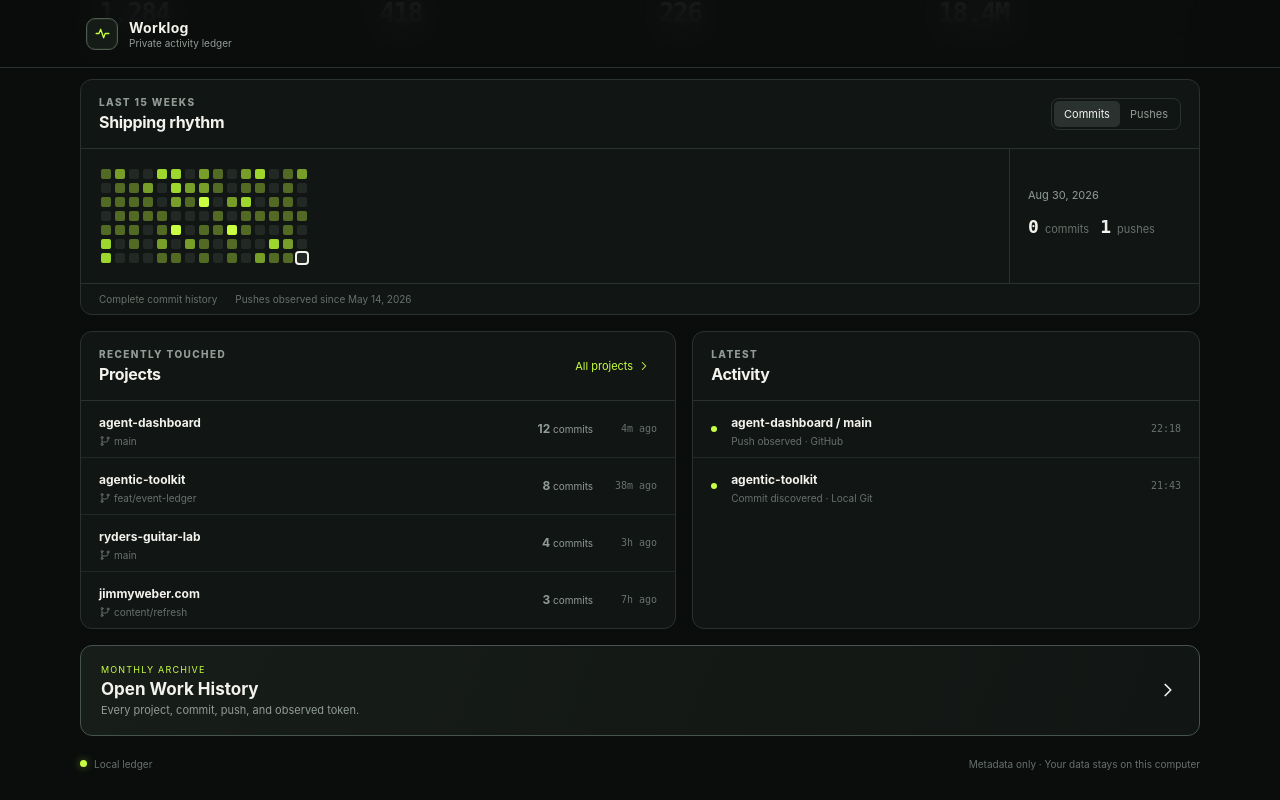
Test case: compact work ledger › opens work history and renders every project returned by the API
(page scrolled)
Step 1. Click the button "Open Work History" → click(153, 669), box 80,645 -> 1200,736
(page scrolled)
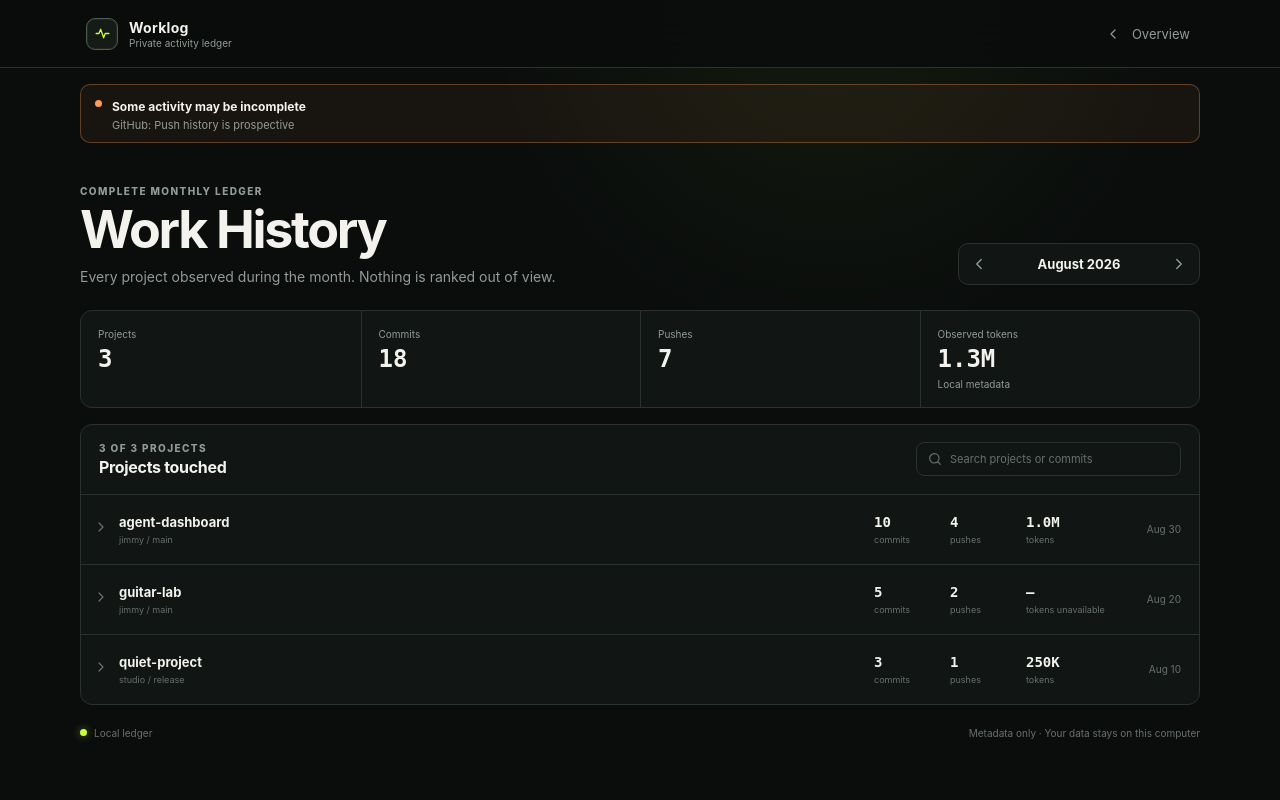
Check: the heading "Work History" is shown, box 80,198 -> 385,261
Check: the text "quiet-project" is shown, box 119,654 -> 202,670
Check: the text "3 of 3 projects" is shown, box 99,442 -> 207,454
